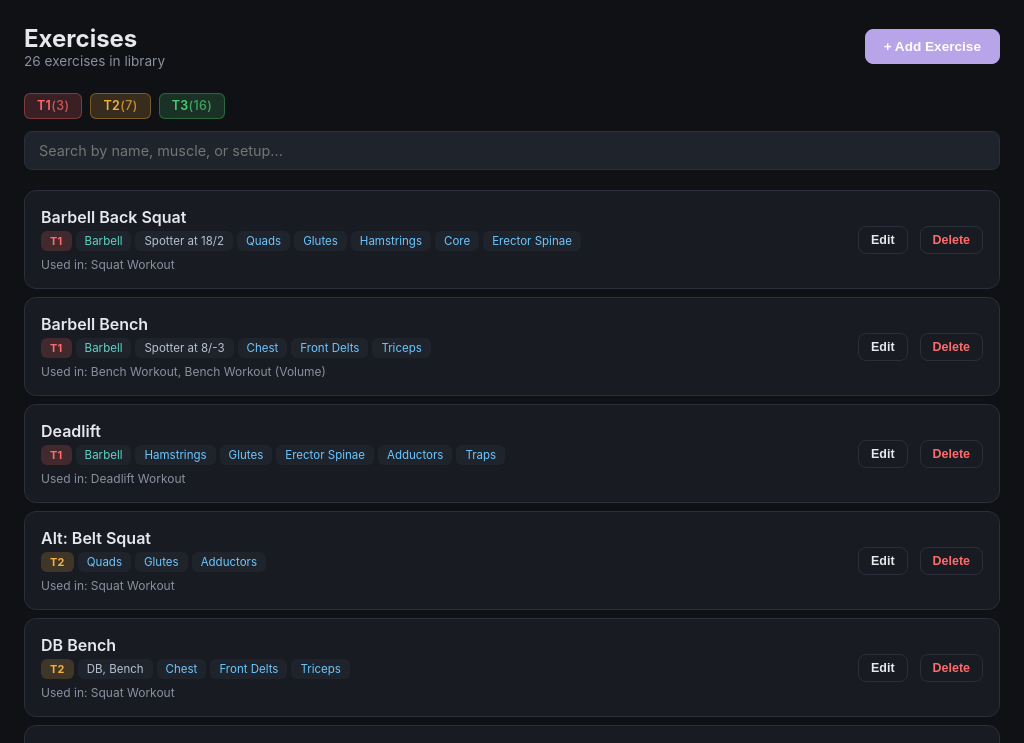
ExercisesPage — tier filter pills › searching a tier string no longer matches by tier
Expected: the link "Barbell Back Squat" is shown, [41, 208, 186, 228]
Type "T1" into the field with placeholder "Search by name, muscle, or setup..." at (512, 151), box [24, 132, 1000, 170]
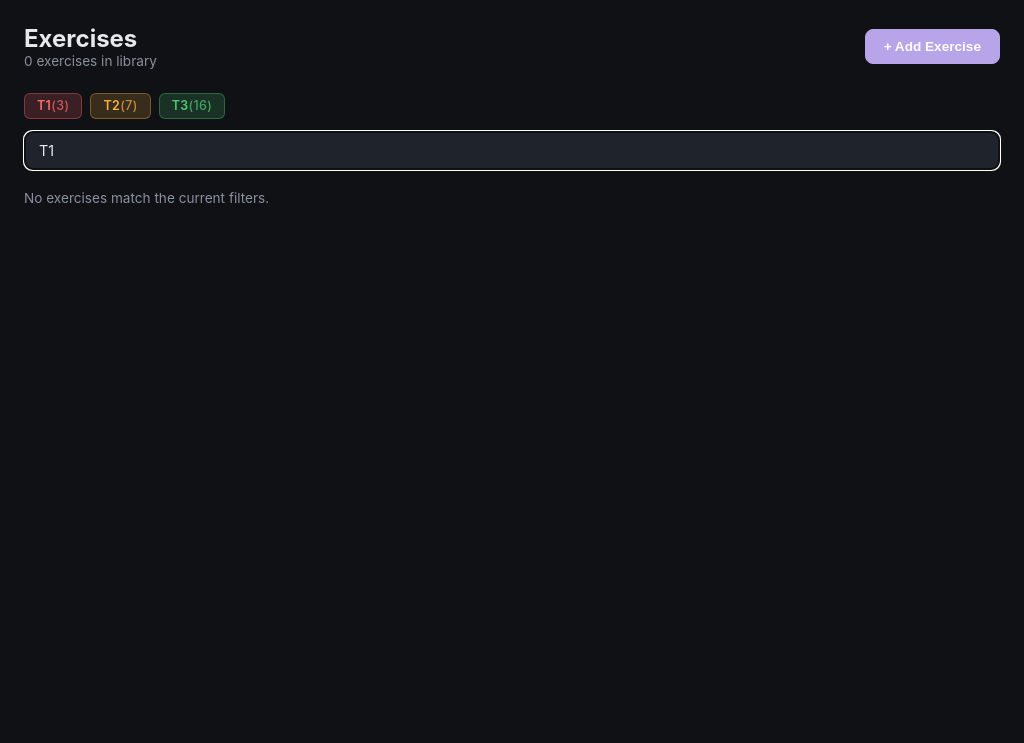
Expected: the text "0 exercises in library" is shown, [24, 53, 157, 69]
